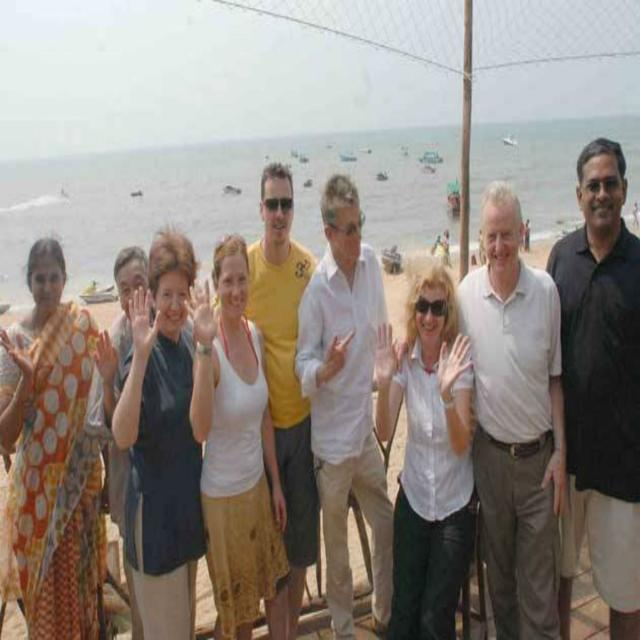body: (392, 185, 568, 640), (540, 133, 639, 639), (293, 168, 392, 639), (182, 228, 294, 639), (0, 234, 108, 639), (371, 254, 475, 640), (109, 226, 206, 639), (242, 163, 320, 638), (84, 245, 156, 639), (432, 228, 450, 255), (476, 228, 486, 268), (522, 220, 529, 252), (526, 216, 532, 251)
